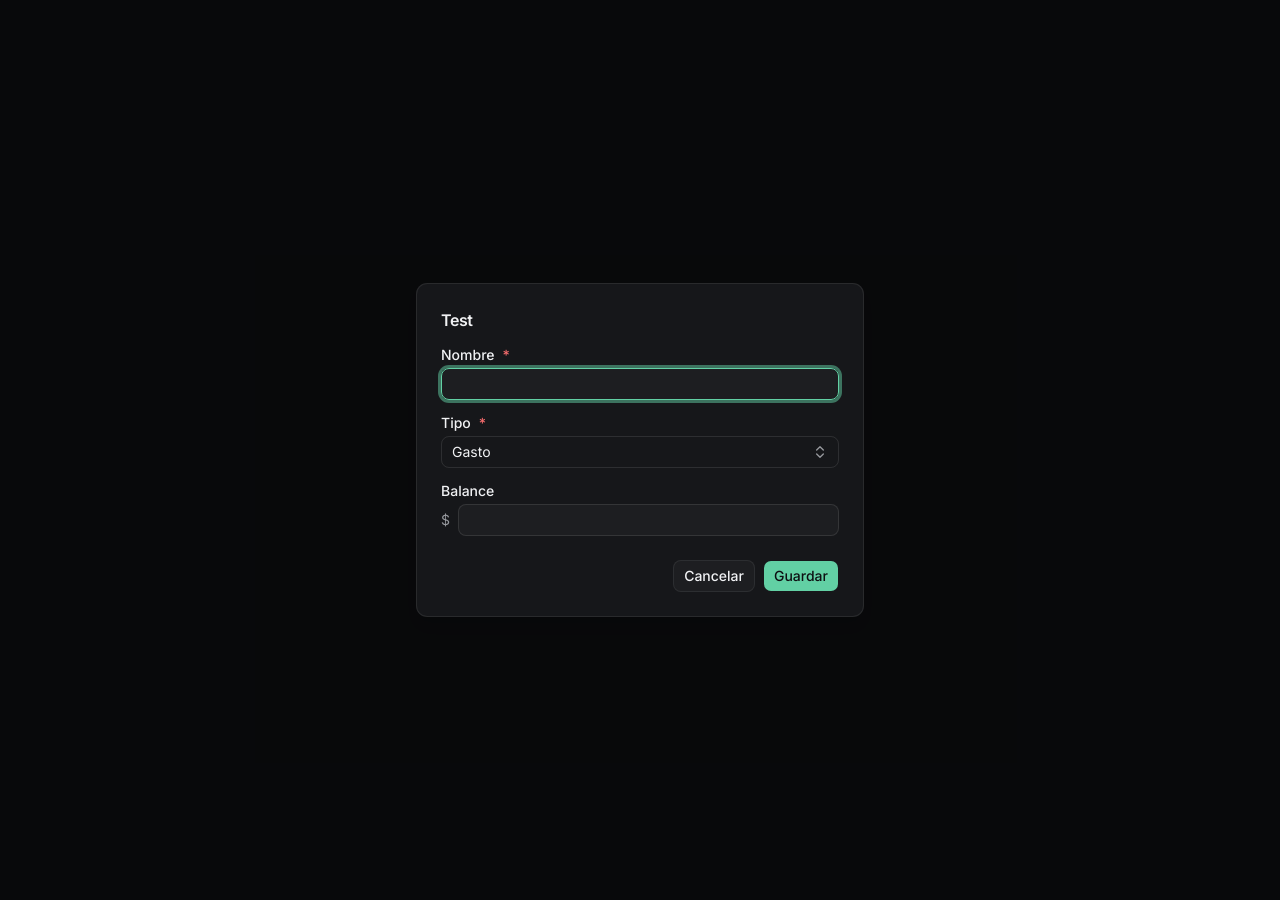
Test case: EntityFormDialog › shows validation error when a required field is empty
The width and height of the screenshot is (1280, 900).
Click the button "Guardar". click: (801, 576)
box: [763,560,839,592]
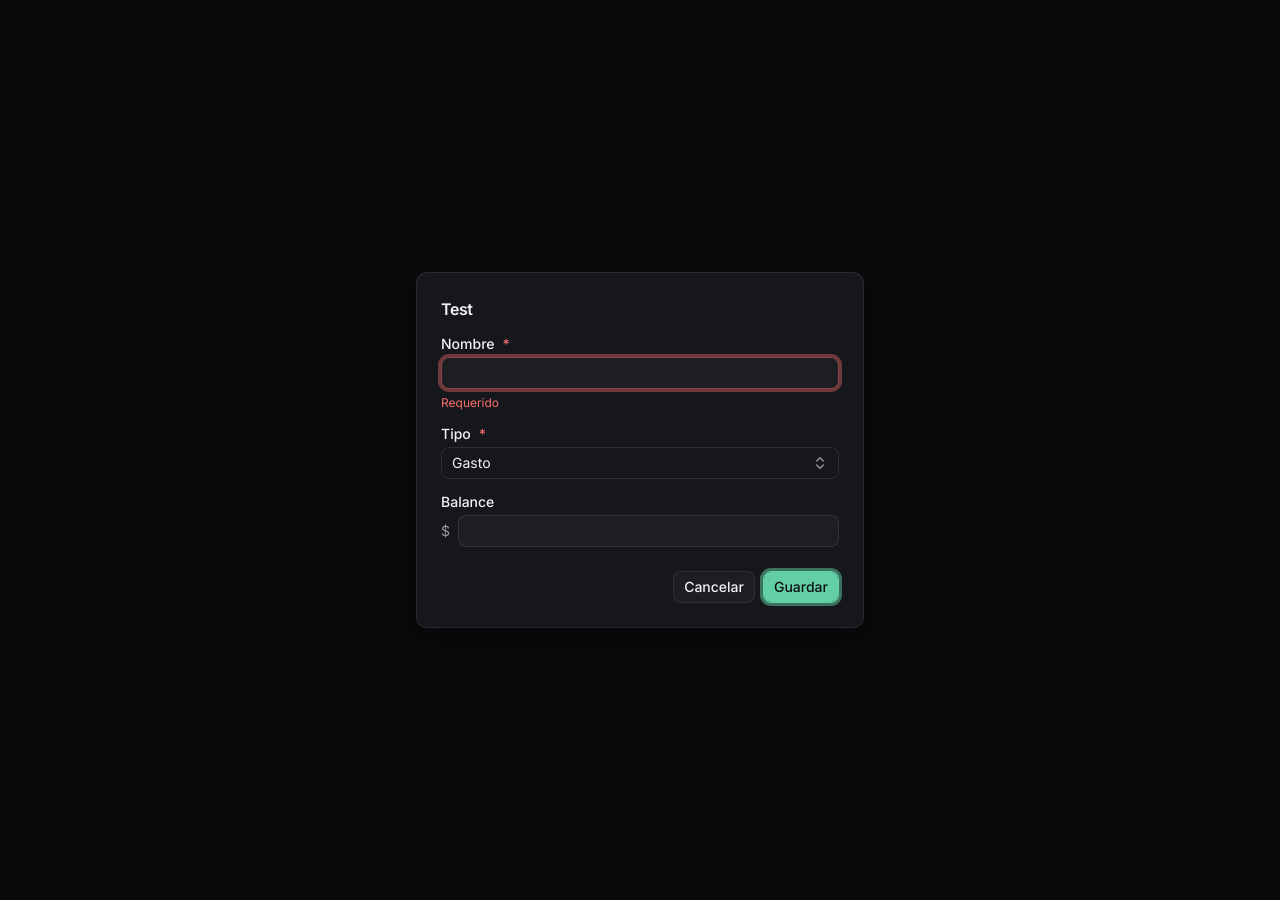
expect the text "Requerido" is shown: met, box [441,395,499,410]
